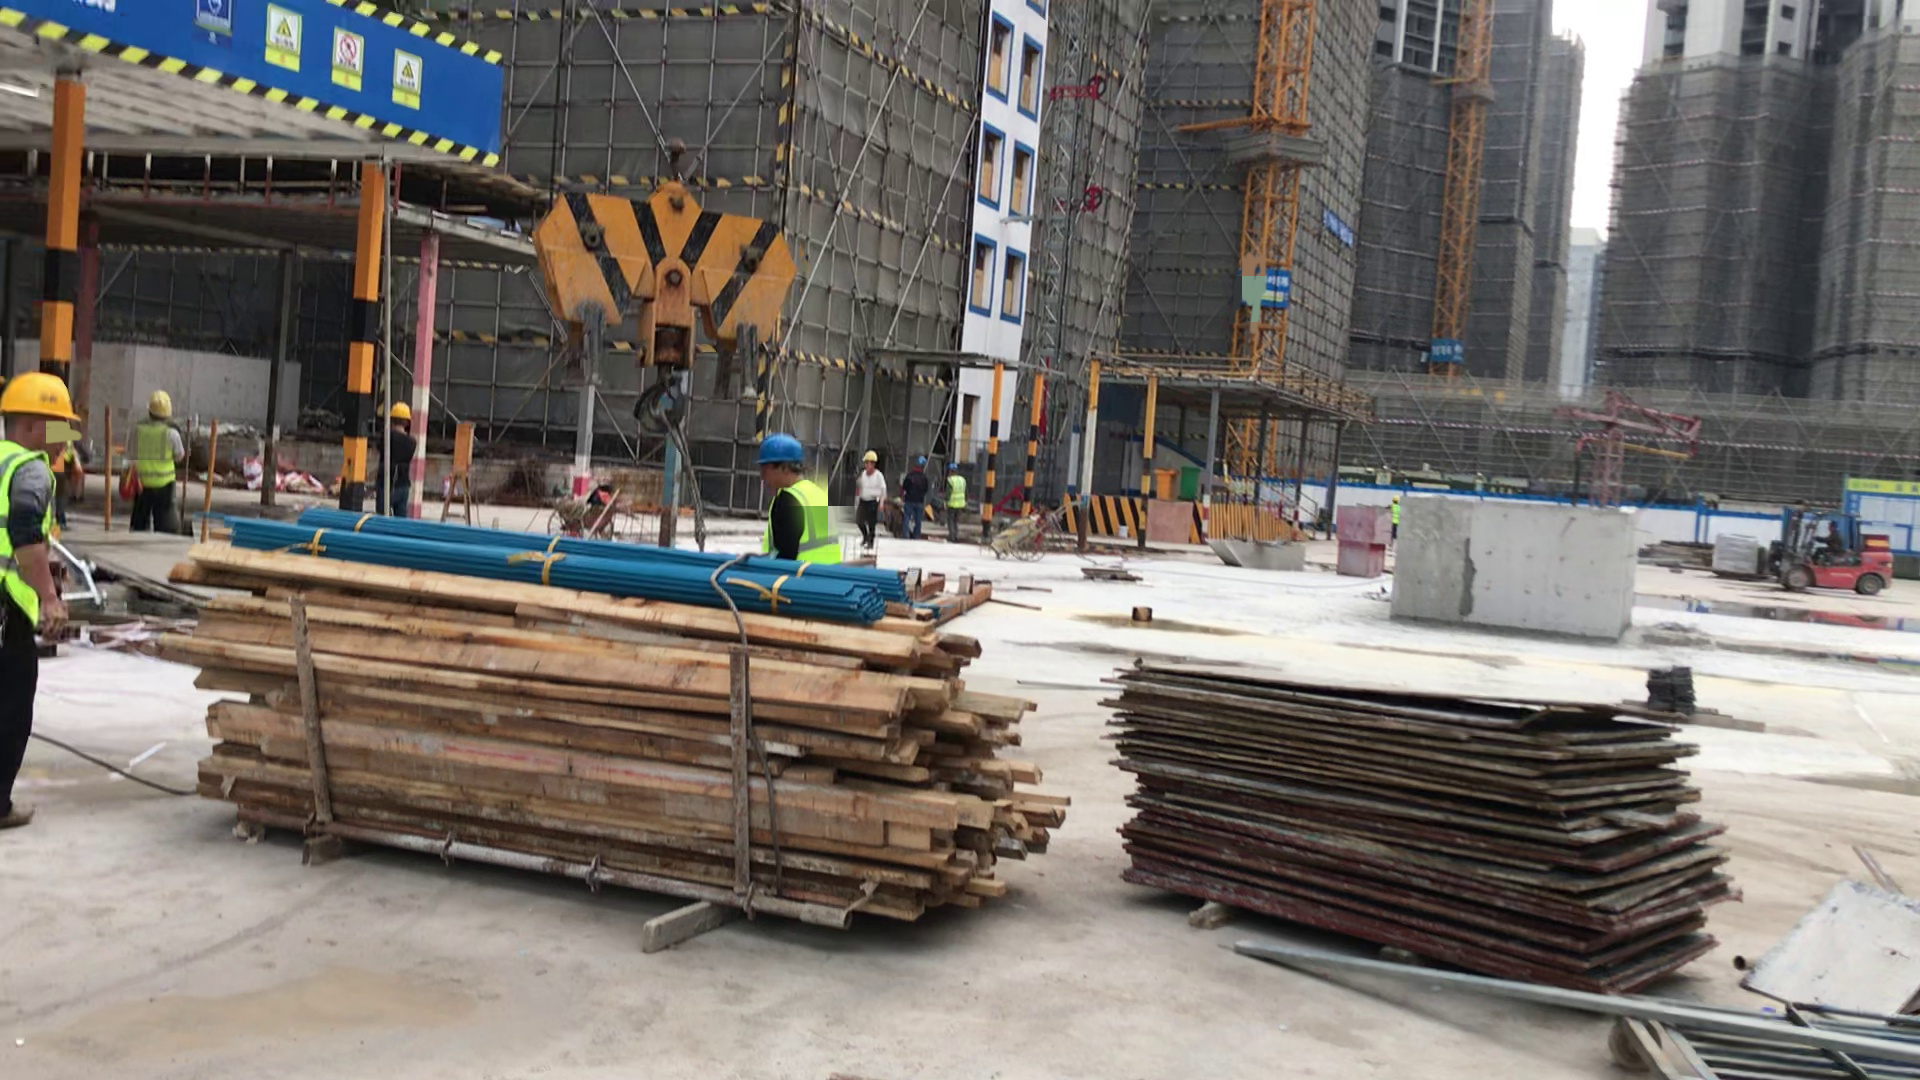board: (1113, 621, 1748, 1014)
handcart: (561, 480, 643, 536)
helmet: (5, 379, 97, 429), (754, 425, 815, 478), (140, 388, 185, 418), (862, 440, 887, 477), (385, 396, 415, 424), (947, 458, 971, 480), (907, 453, 926, 474)
hook: (512, 182, 808, 381)
hopper: (1210, 528, 1313, 585)
person: (1, 365, 92, 831), (737, 428, 841, 584), (124, 378, 188, 535), (384, 397, 420, 518), (850, 437, 882, 547), (942, 454, 974, 549), (896, 454, 925, 537), (1812, 519, 1845, 565)
vest: (1, 439, 50, 628), (116, 420, 188, 514), (766, 477, 826, 561)
wood: (192, 546, 974, 906)
